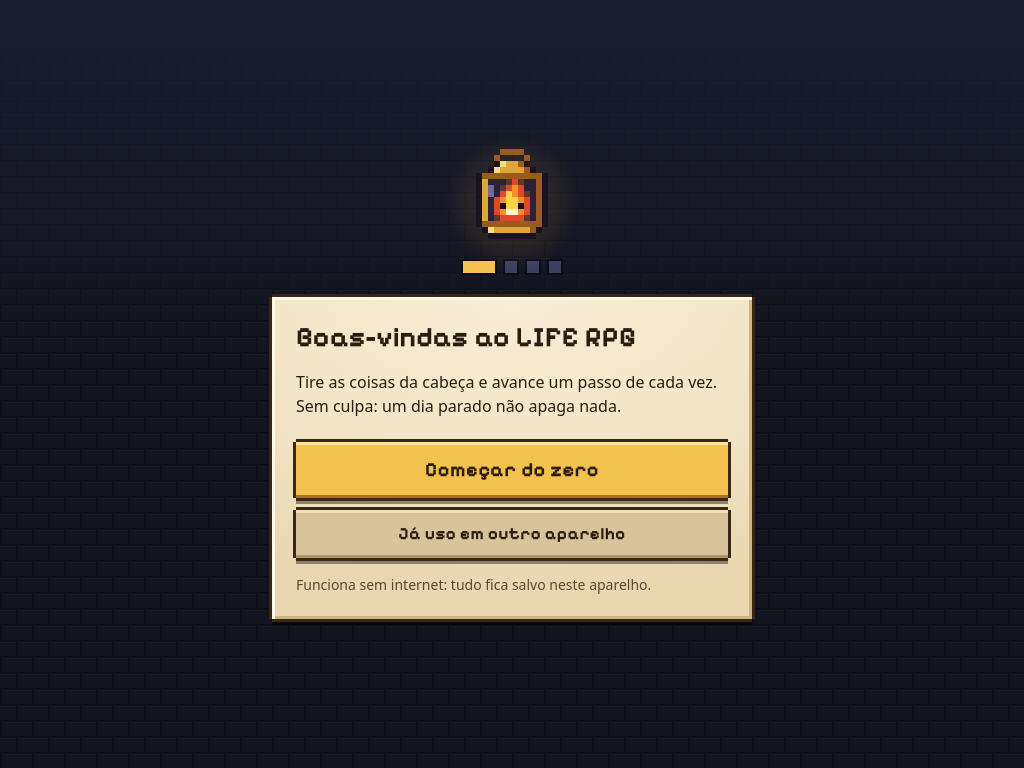
Test: Onboarding › access code: invalid and offline answers are explained
Click the button "Já uso em outro aparelho".
click(512, 534)  # box top-left (296, 510), bottom-right (728, 558)
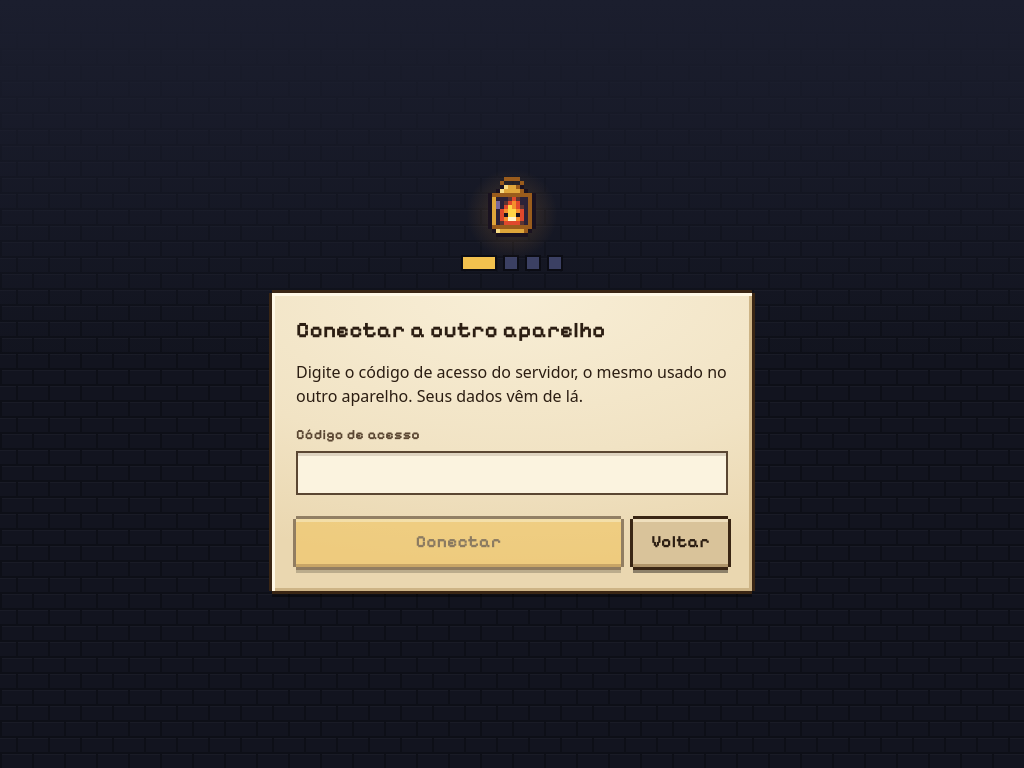
Type "errado" into the field labelled "Código de acesso".
click(512, 473); type("errado")  # box top-left (296, 451), bottom-right (728, 495)
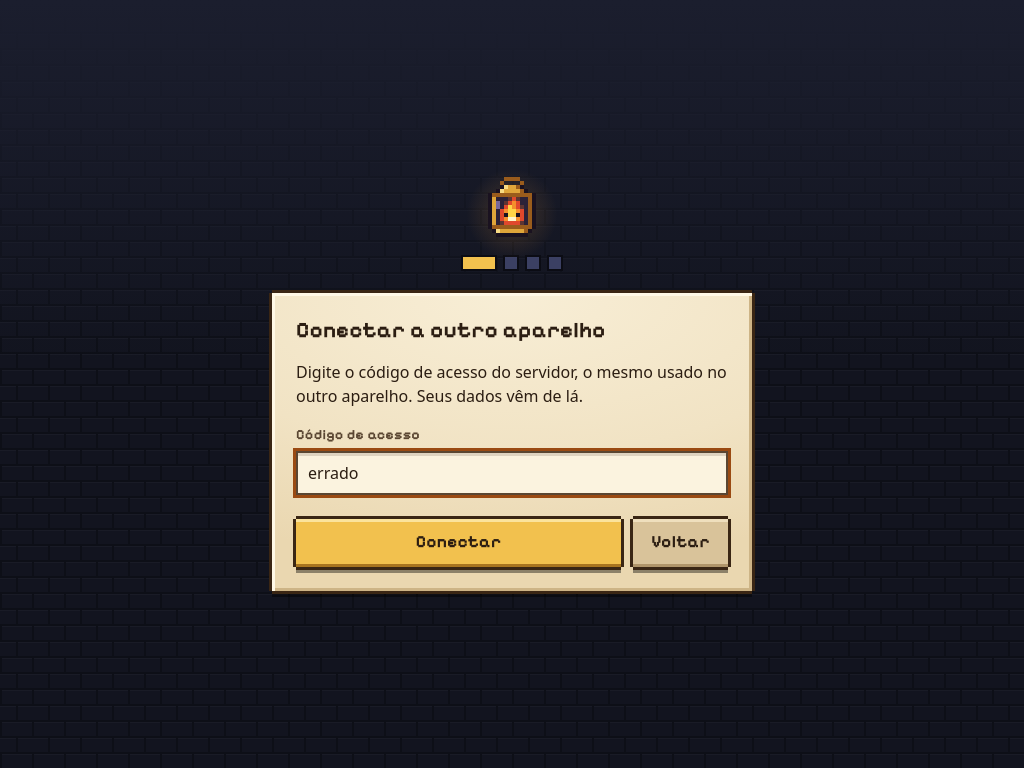
Click the button "Conectar".
click(459, 543)  # box top-left (296, 519), bottom-right (621, 567)
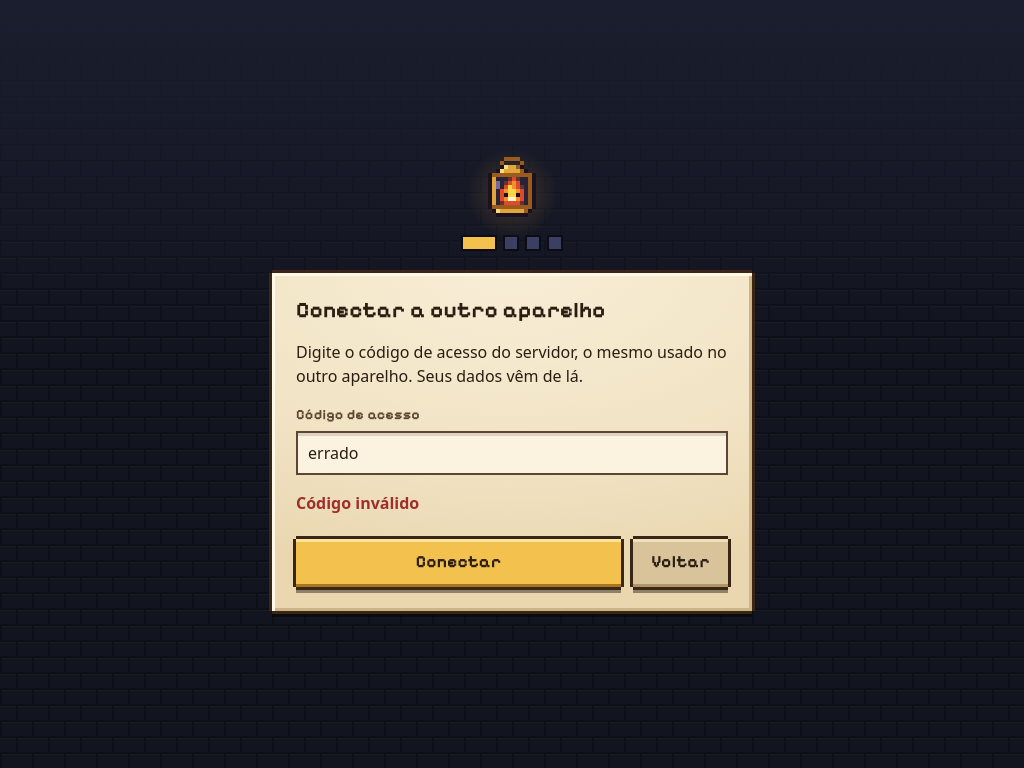
Now the text "Código inválido" is shown, box top-left (296, 492), bottom-right (419, 514)
Click the button "Conectar".
click(459, 563)  # box top-left (296, 539), bottom-right (621, 587)
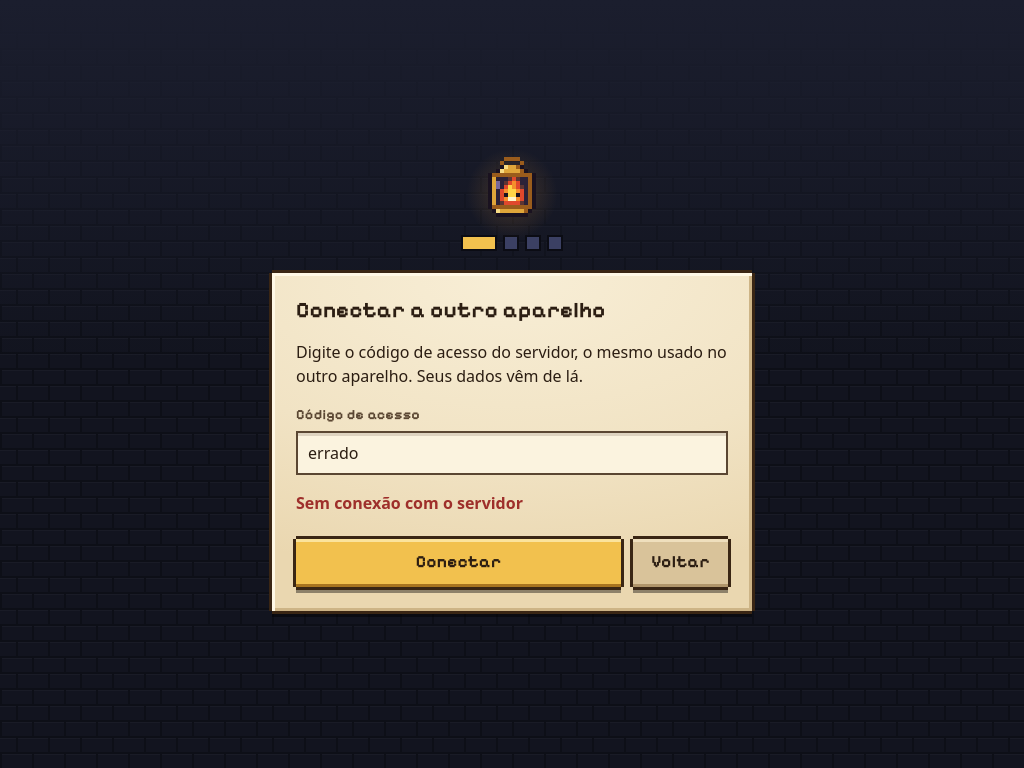
Now the text "Sem conexão com o servidor" is shown, box top-left (296, 492), bottom-right (523, 514)
